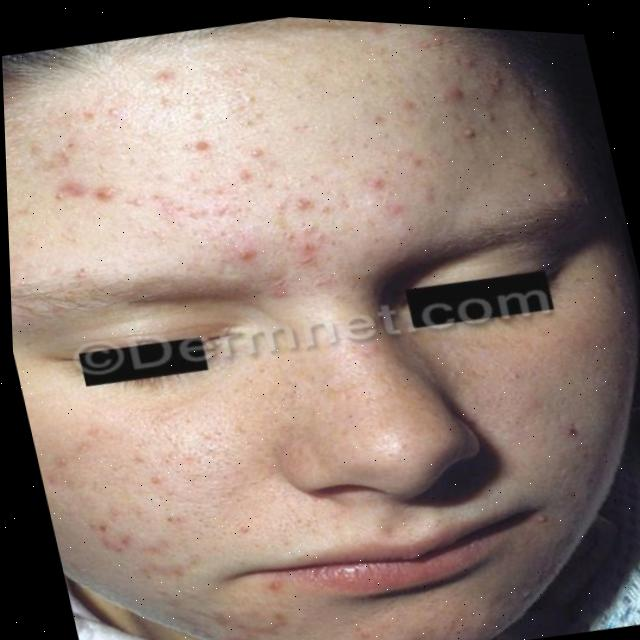Rosacea: (0, 0, 541, 346), (35, 396, 303, 640)
